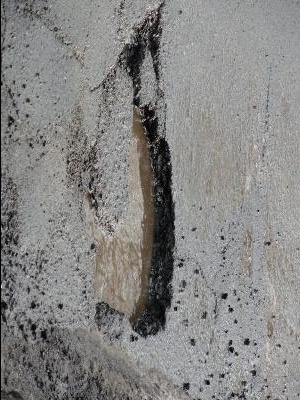pothole: (81, 95, 178, 342), (113, 2, 164, 89)
